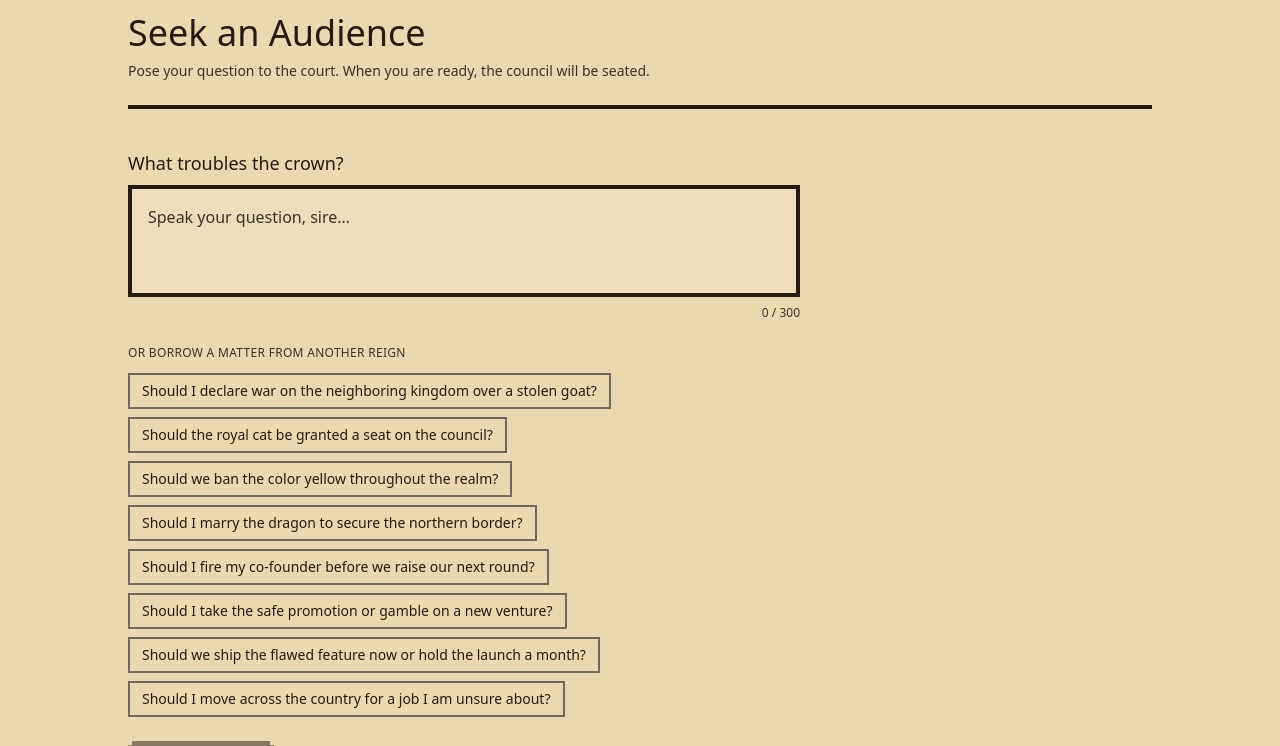
AudienceNew — question composer (T-15) › can return from seating to edit the question
The image size is (1280, 746).
Type "Should the royal cat join the council?" into the text box at x=464, y=241, box [128, 185, 800, 297]
(page scrolled)
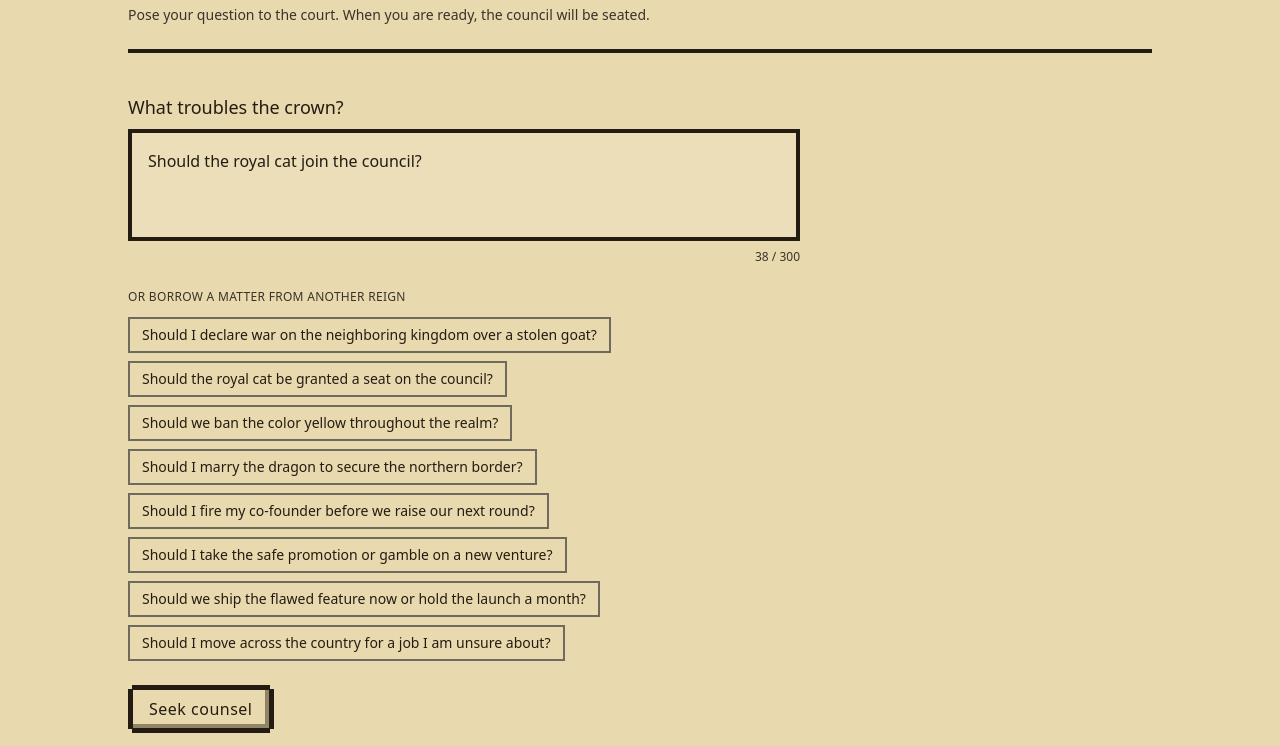
Click the button "Seek counsel" at x=201, y=709, box [132, 689, 270, 729]
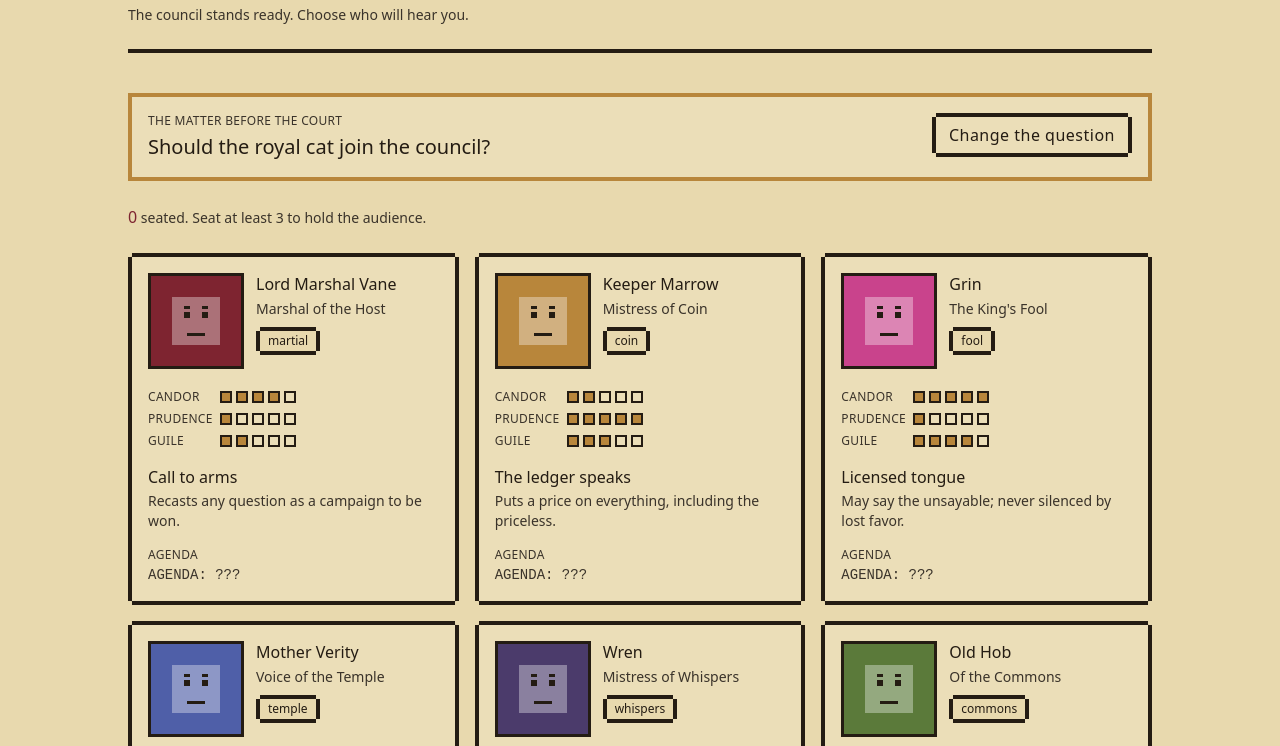
Click the button "Change the question" at x=1032, y=135, box [936, 117, 1128, 153]
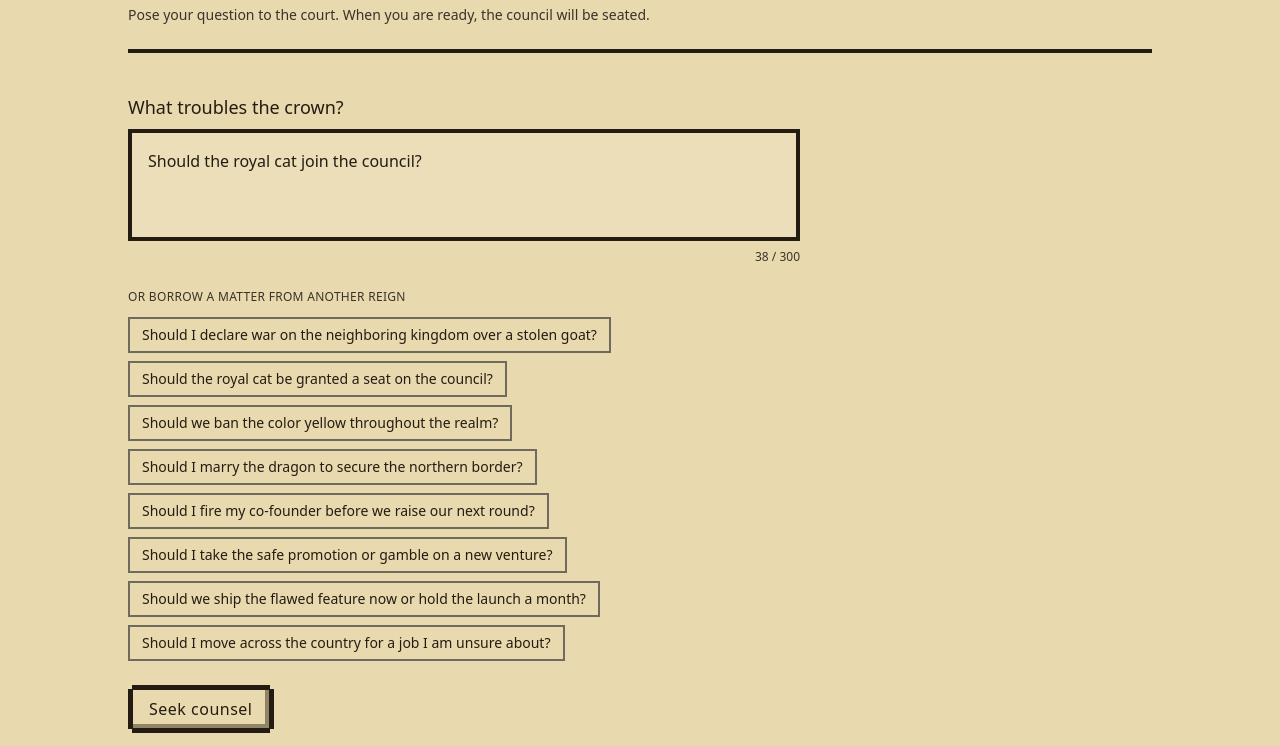
Result: the text box holds "Should the royal cat join the council?" at [128, 129, 800, 241]
